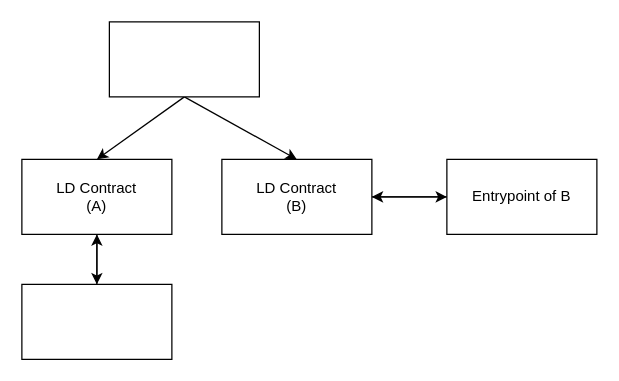
This 619x381 diagram has some shape labels left out. Here are the shapes that lost their labels. From the top down, the centre of each, then its label:
At (x=183, y=59): "LD Contract".
At (x=96, y=321): "Entrypoint of A".
